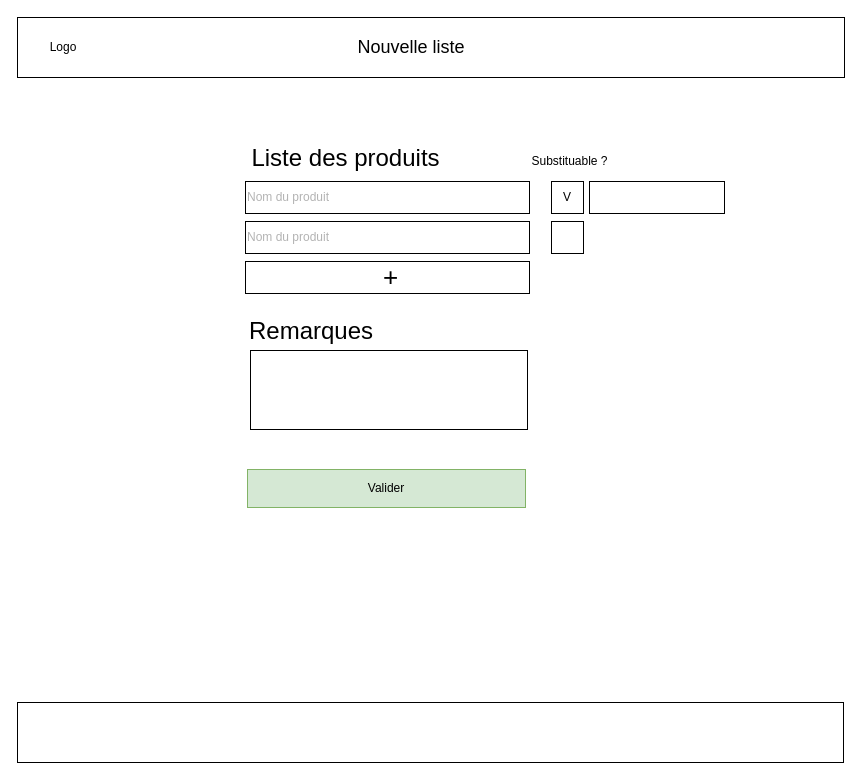
The diagram is 862 pixels wide and 780 high, and some of its shapes have lost their labels. The box of each missing label's shape, as (x1, y1, x2, y2) in pixels:
Ajouter un produit: (588, 180, 724, 214)
Footer: (16, 702, 844, 762)
remarque: (250, 350, 528, 430)
